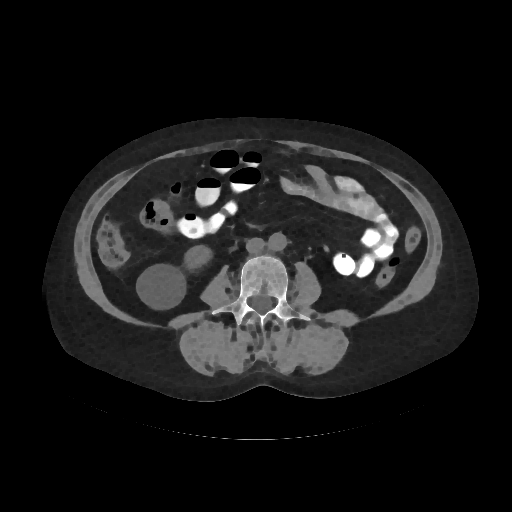Lesion: (134, 260, 189, 313)
